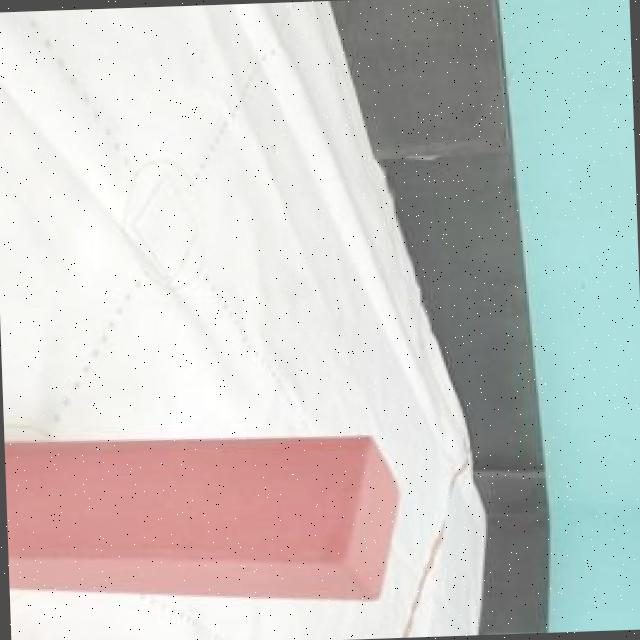redbox: (4, 426, 407, 608)
